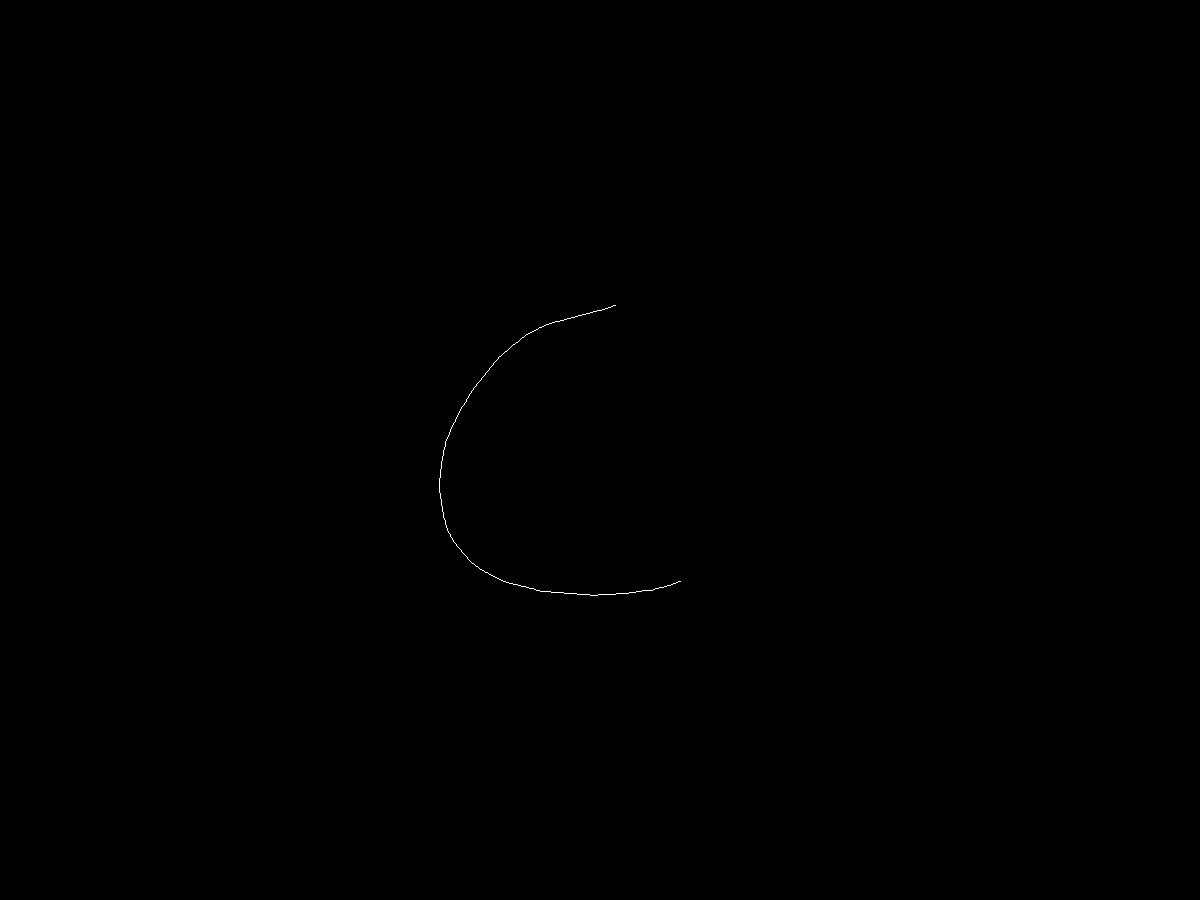dian1: (608, 297, 628, 316)
dian2: (671, 570, 698, 594)
